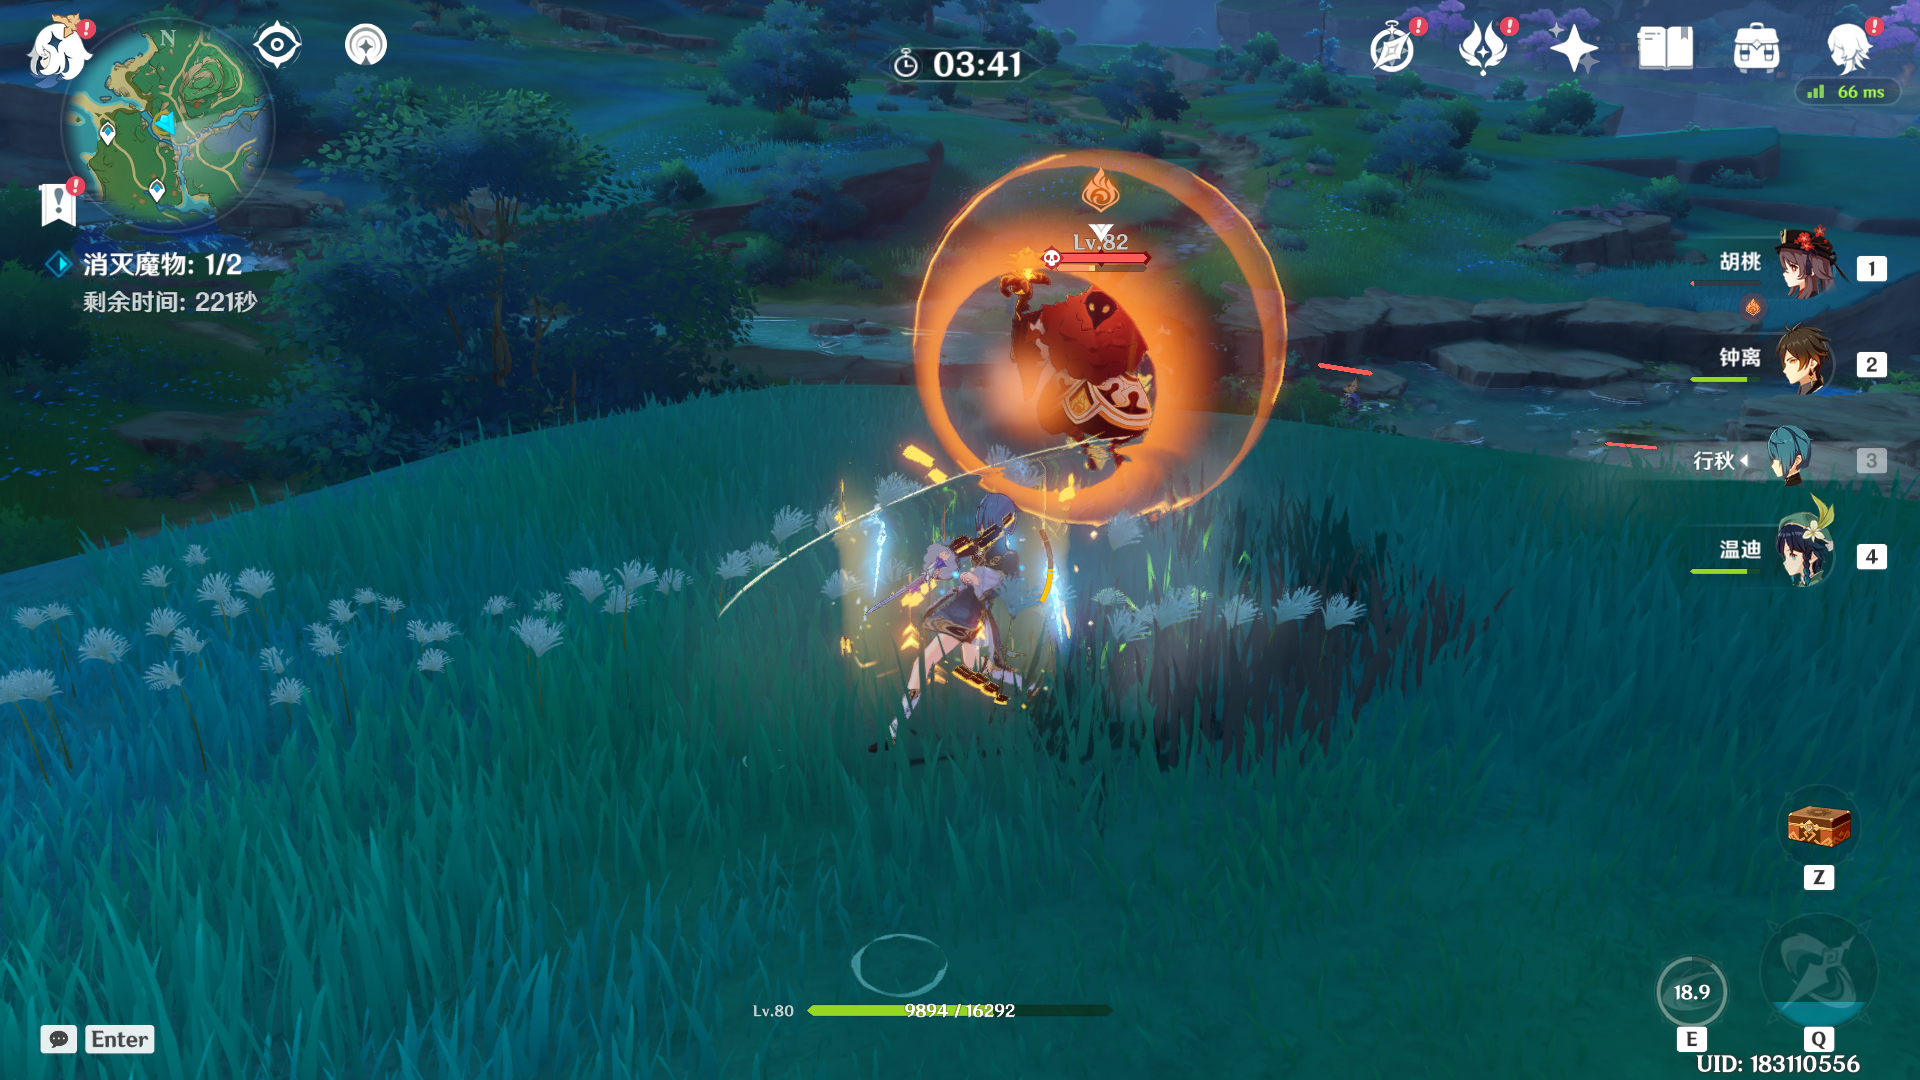caster: (978, 227, 1234, 510)
character: (855, 512, 1112, 785)
